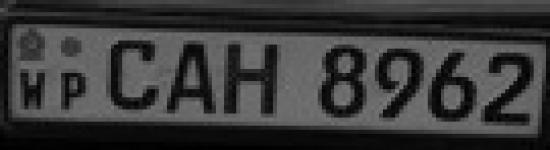2: (481, 46, 539, 133)
6: (424, 42, 480, 125)
8: (312, 40, 373, 125)
9: (373, 42, 425, 124)
A: (160, 36, 221, 121)
C: (99, 34, 162, 113)
H: (220, 36, 285, 122)
P: (54, 67, 90, 115)
W: (16, 63, 50, 113)
